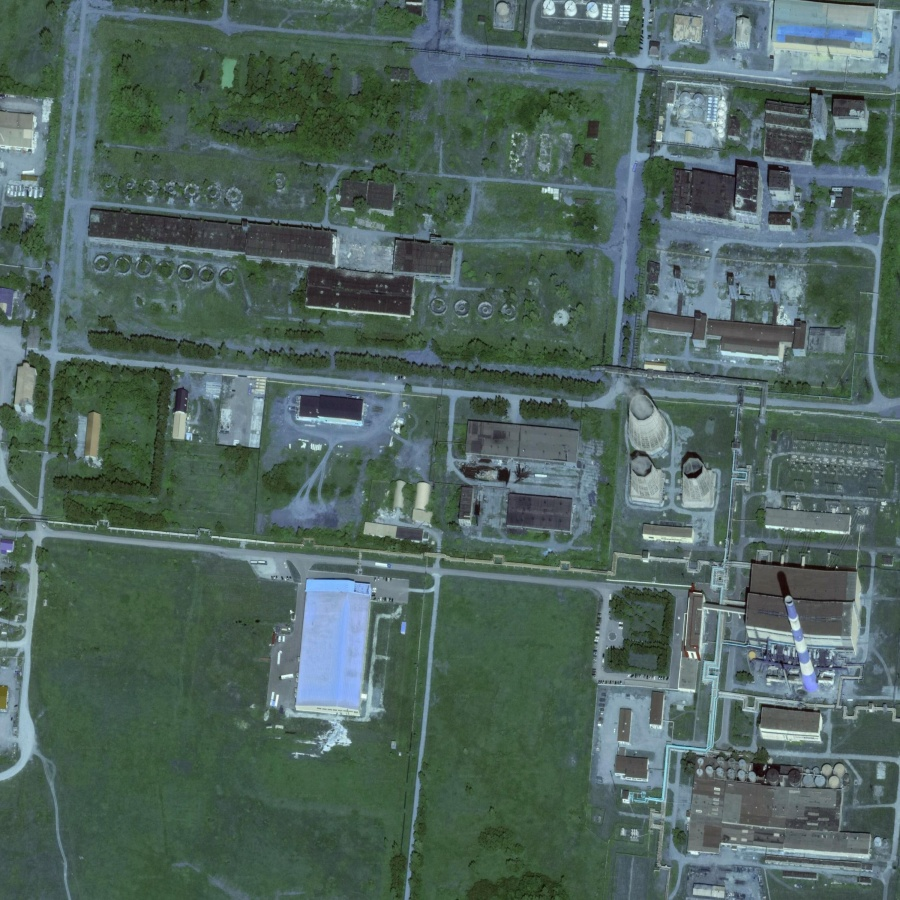PowerPlant: (599, 384, 892, 743)
